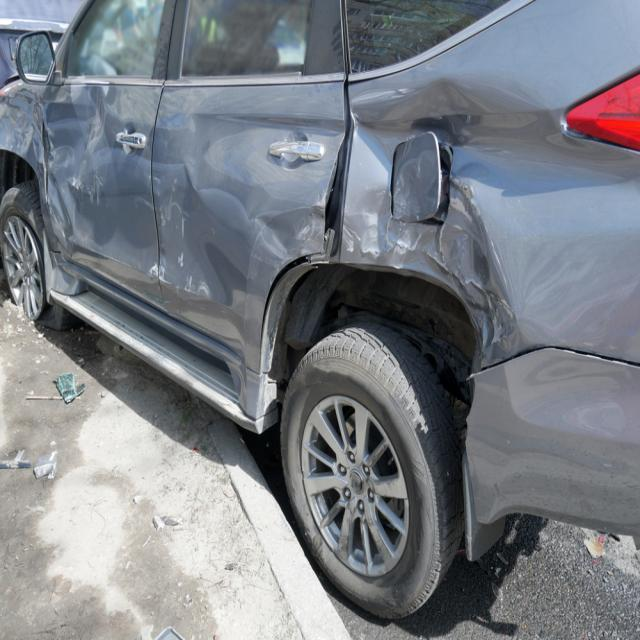dent: (343, 72, 533, 367), (165, 83, 341, 318), (43, 87, 104, 247), (0, 87, 34, 157)
tire flat: (0, 177, 71, 331)
